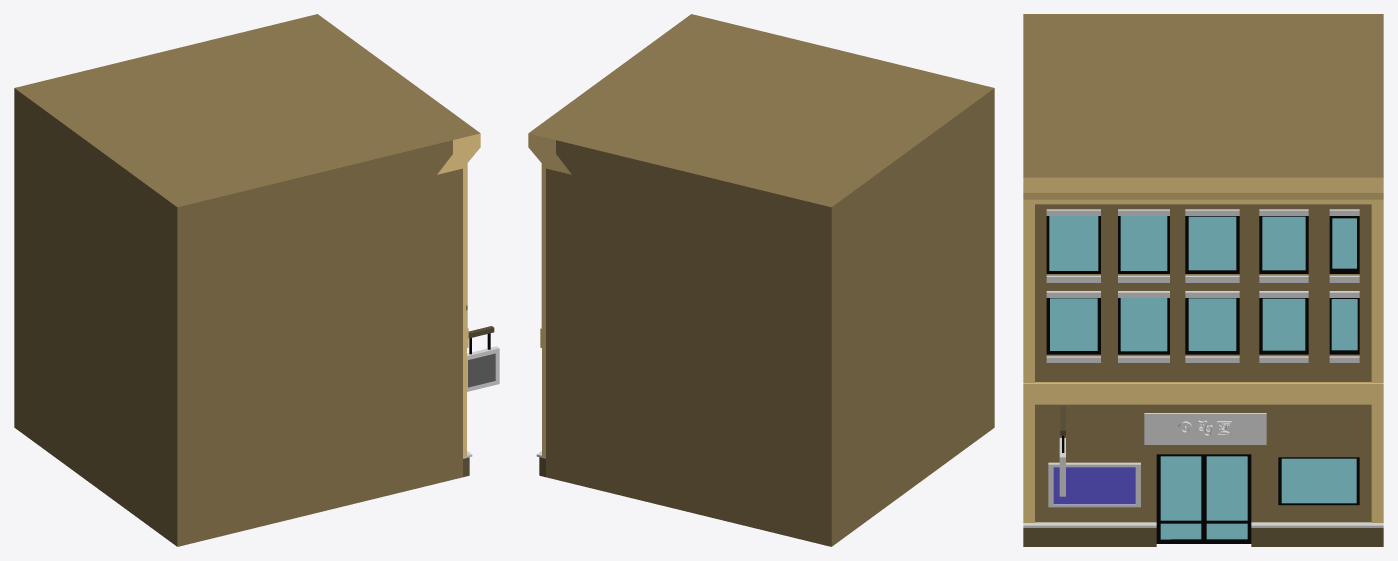
The model's file is Sandard building 2.fbx.
3 renders of one model, left to right at view 1: azimuth 30°, elevation 25°; view 2: azimuth 150°, elevation 25°; view 3: azimuth 270°, elevation 25°, orthographic. The views are drawn at different scales.
Visible parts, largest first — view 1: Cube.001, Cube.023; view 2: Cube.001; view 3: Cube.001, Cube.023, Text.
Part boxes in pixels (x1,y1,x2,y2): Cube.001: (14, 14, 480, 546); Cube.023: (467, 326, 499, 391); Cube.001: (528, 14, 994, 546); Cube.001: (1023, 14, 1383, 546); Cube.023: (1059, 406, 1065, 496); Text: (1178, 420, 1231, 436).
Bounding box in the file's own units: 2520 × 2414 × 2102.
